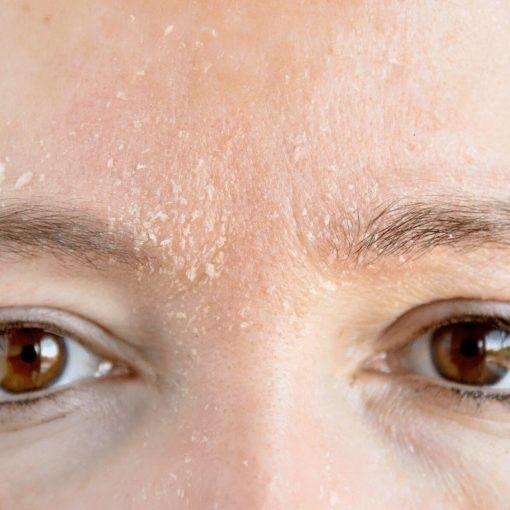Dry-Skin: (146, 202, 229, 268), (306, 197, 371, 257), (176, 282, 255, 328), (2, 147, 53, 200)
